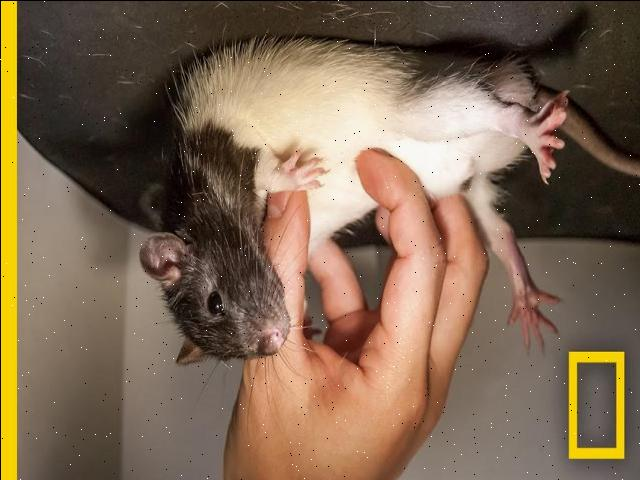Tikus: (143, 41, 638, 363)
